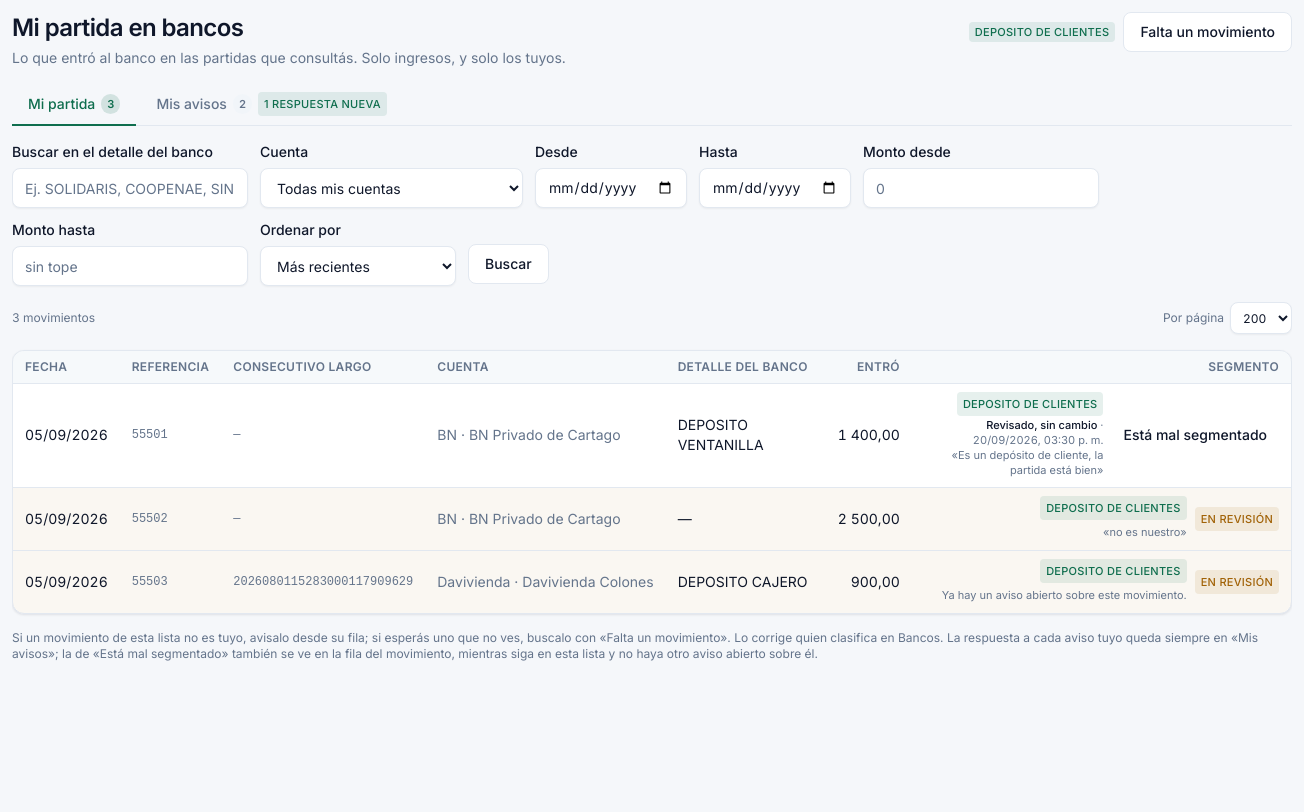
Test: MiSegmentoPage › el aviso del rango mal escrito sigue saliendo
This screenshot has width=1304, height=812.
Check: the text "todavía no apliqué el rango de fechas" is not shown
Type "0202-09-01" into the date field labelled "Desde" at x=611, y=188, box left=535, top=168, right=687, bottom=208
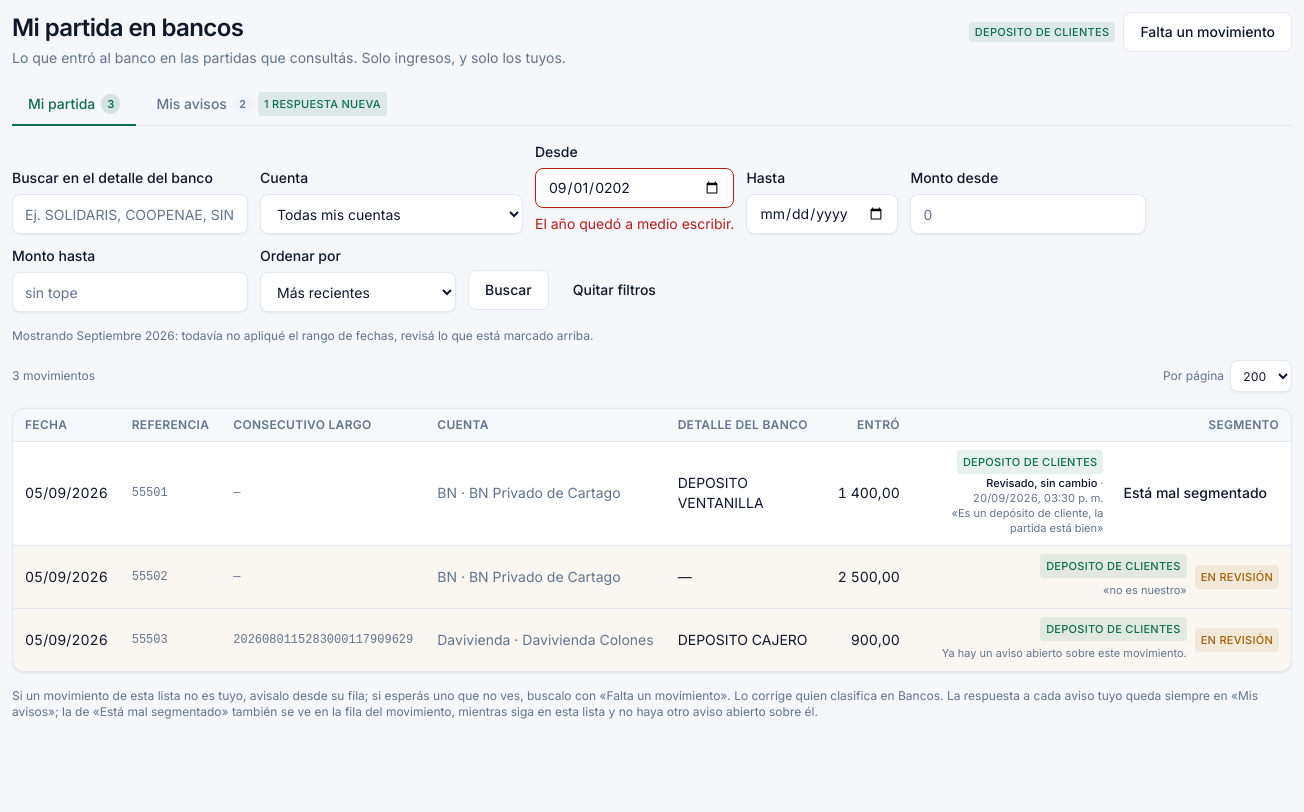
Check: the text "todavía no apliqué el rango de fechas" is shown, box left=175, top=328, right=593, bottom=343
Type "2026-09-01" into the date field labelled "Desde" at x=635, y=188, box left=535, top=168, right=734, bottom=208
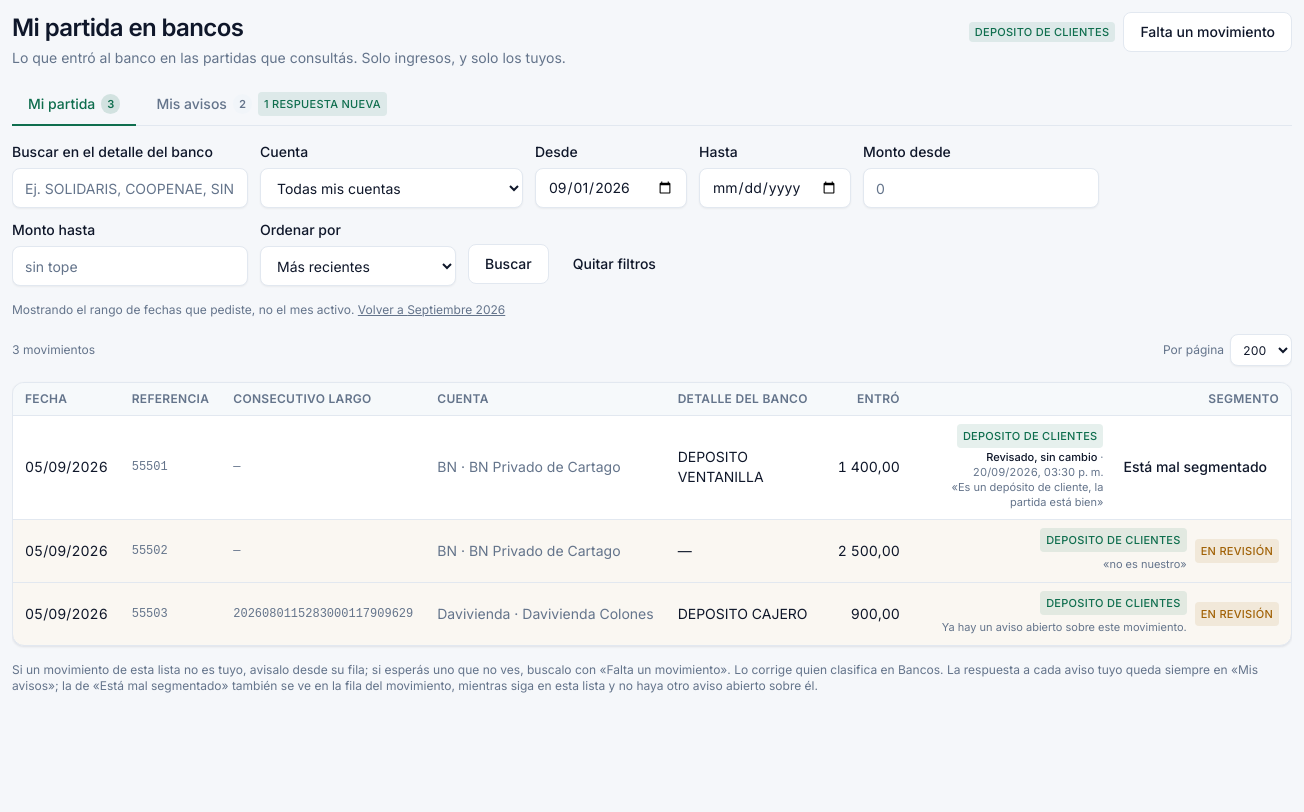
Check: the text "Mostrando el rango de fechas que pediste, no el mes activo" is shown, box left=12, top=302, right=354, bottom=317
Click the button "Volver a Septiembre 2026" at x=432, y=310, box left=358, top=302, right=505, bottom=318
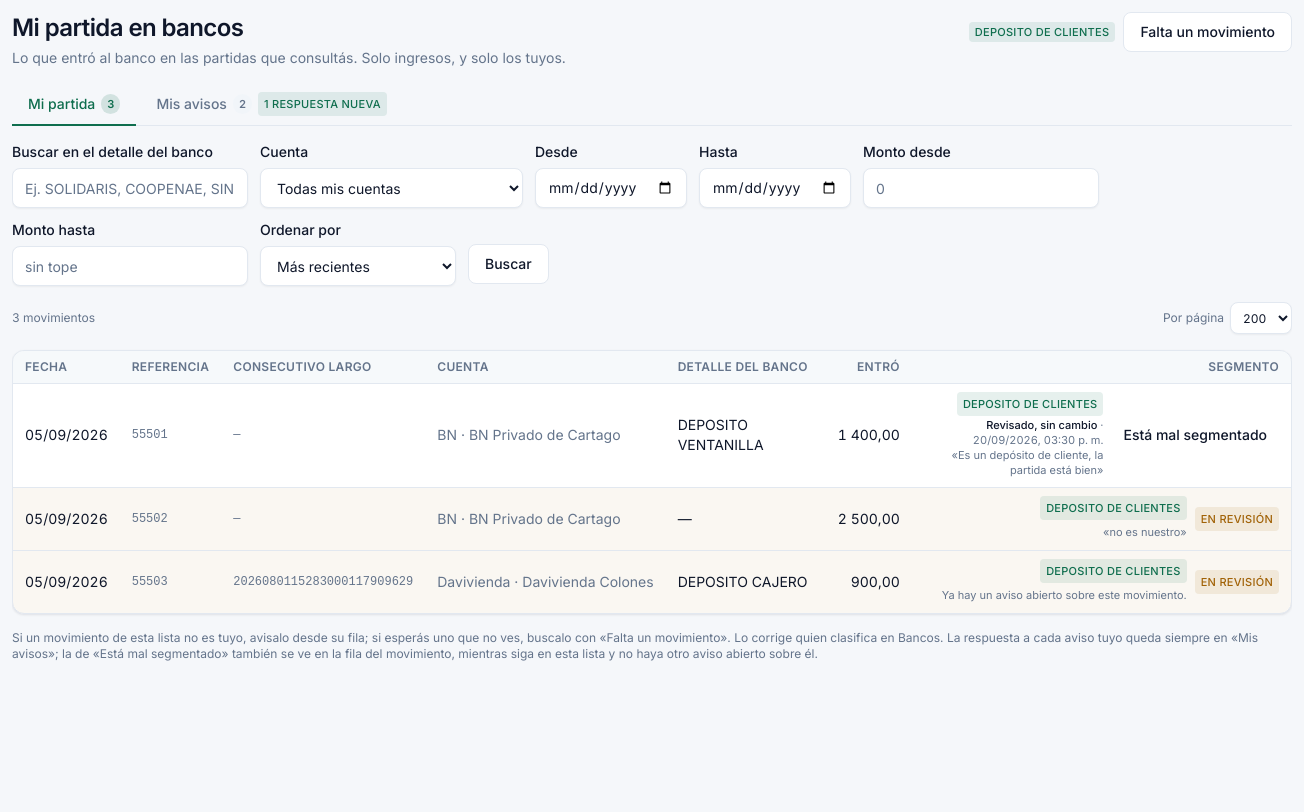
Check: the text "Mostrando el rango de fechas" is gone
